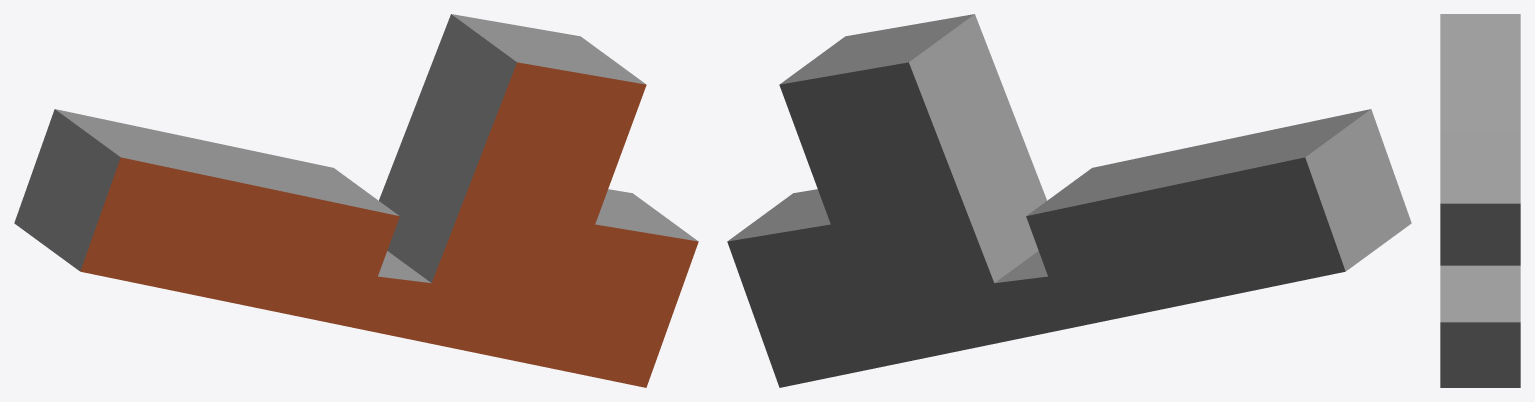
Rendered from construction_5799_assumed_A_Casa_h6m.obj.
3 renders of one model, left to right at view 1: azimuth 30°, elevation 25°; view 2: azimuth 150°, elevation 25°; view 3: azimuth 270°, elevation 25°, orthographic. The views are drawn at different scales.
Visible parts, largest first — view 1: construction_5799_assumed_A_Casa; view 2: construction_5799_assumed_A_Casa; view 3: construction_5799_assumed_A_Casa.
Boxes of the visible parts, x1,y1,x2,y2 form: construction_5799_assumed_A_Casa: (14, 14, 698, 387); construction_5799_assumed_A_Casa: (727, 14, 1411, 387); construction_5799_assumed_A_Casa: (1440, 14, 1520, 387).
Bounding box in the file's own units: 32.43 × 17.98 × 6.
